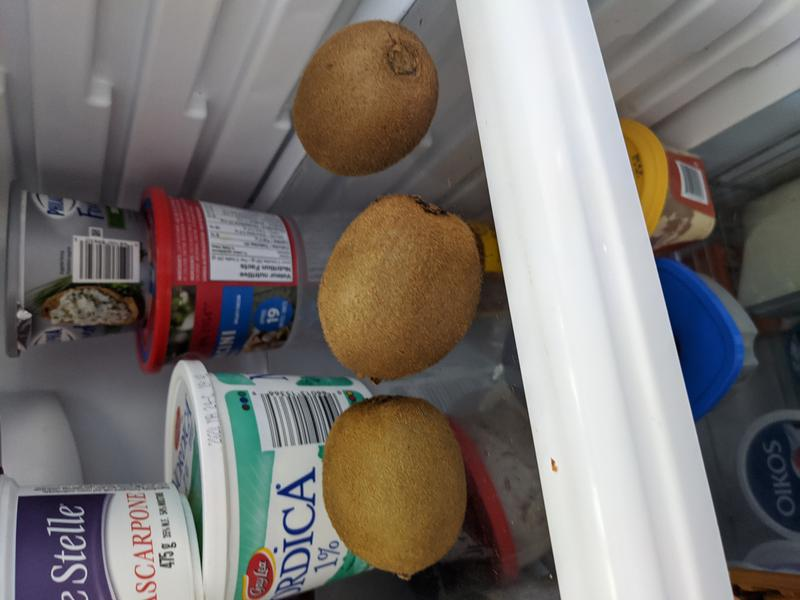kiwi: (315, 193, 484, 383), (322, 395, 468, 581), (291, 20, 441, 178)
